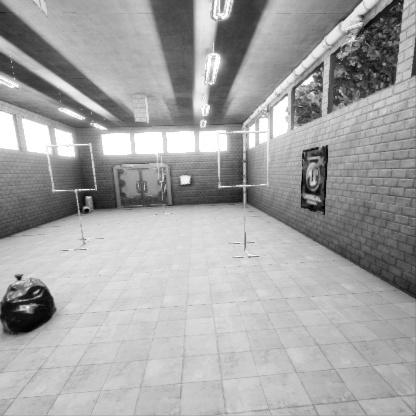gate: (219, 230, 274, 288), (49, 226, 102, 273), (156, 234, 163, 263)
